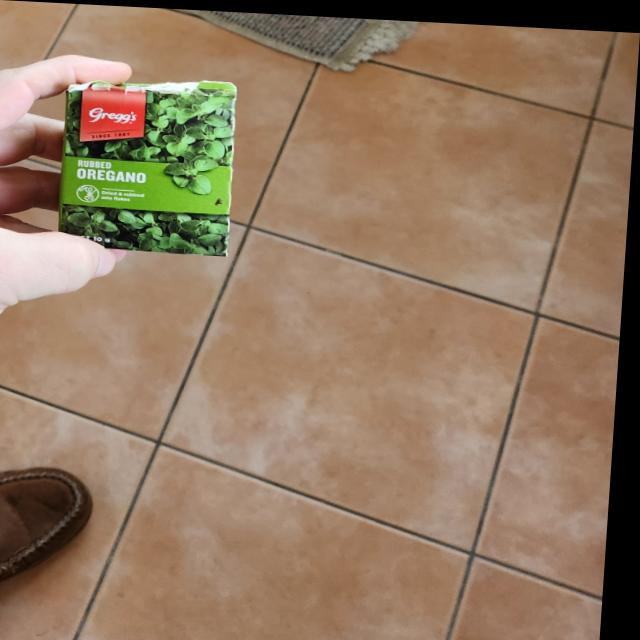oregano: (58, 75, 243, 252)
